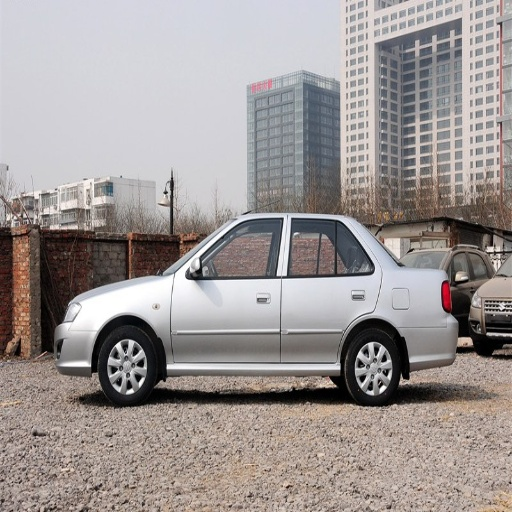back_bumper: (408, 315, 458, 370)
back_left_door: (280, 217, 380, 362)
front_left_door: (173, 219, 288, 361)
